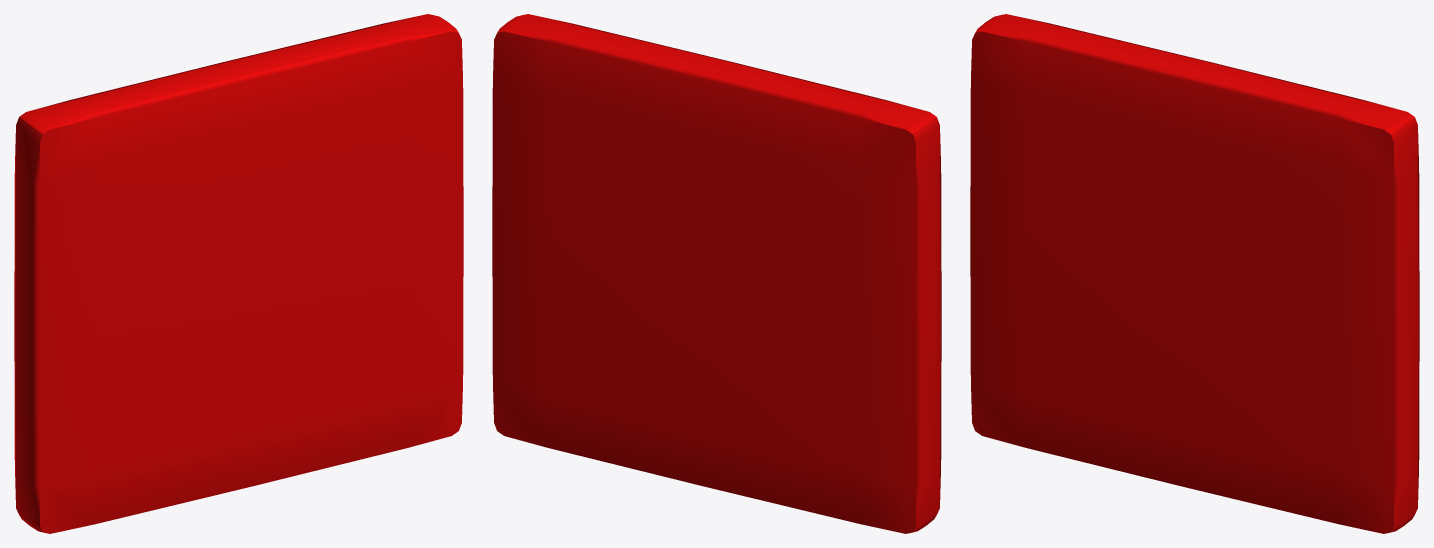
Rendered from Tableau_Case.fbx.
3 renders of one model, left to right at view 1: azimuth 30°, elevation 25°; view 2: azimuth 150°, elevation 25°; view 3: azimuth 330°, elevation 25°, orthographic.
Visible parts, largest first — view 1: Case; view 2: Case; view 3: Case.
Boxes of the visible parts, left/top/right/bottom form: Case: left=14, top=14, right=463, bottom=533; Case: left=492, top=14, right=941, bottom=533; Case: left=970, top=14, right=1419, bottom=533.
Size of the model in its own units: 7.51 by 6.89 by 0.8955.
